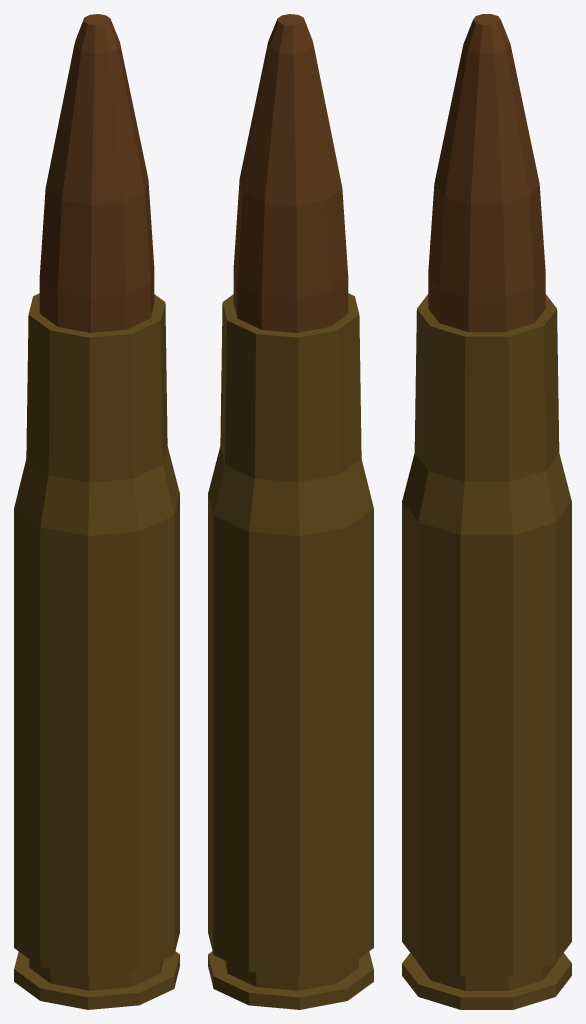
Rendered from Rifle Ammo.fbx.
The picture shows the model from 3 angles, left to right: view 1: azimuth 30°, elevation 25°; view 2: azimuth 150°, elevation 25°; view 3: azimuth 270°, elevation 25°; orthographic projection.
Visible parts, largest first — view 1: Rifle Ammo; view 2: Rifle Ammo; view 3: Rifle Ammo.
Part boxes in pixels (<box>): Rifle Ammo: <box>14,14,179,1009</box>; Rifle Ammo: <box>208,14,373,1009</box>; Rifle Ammo: <box>402,14,571,1009</box>.
Bounding box in the file's own units: 1.29 × 8.44 × 1.36.
